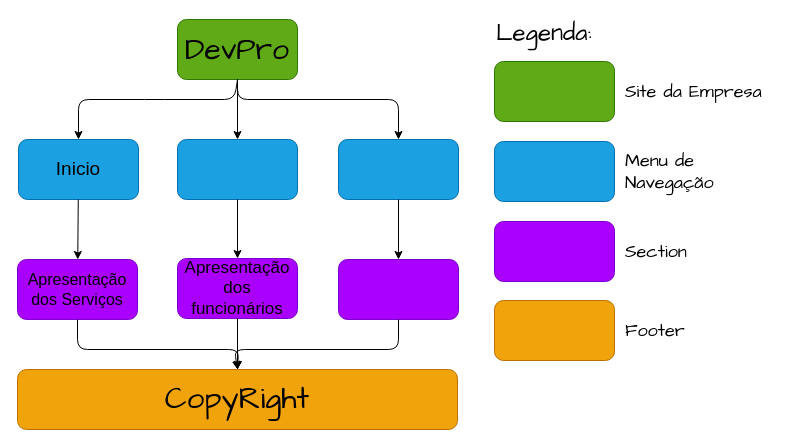
Image size: 801x447. Some labels were removed from this diagram. Here are the shapes that lost their labels. From the top down, the centre of each, then its label:
At point 237,169: "Sobre Nós".
At point 398,169: "Contato".
At point 398,289: "Formulário".
